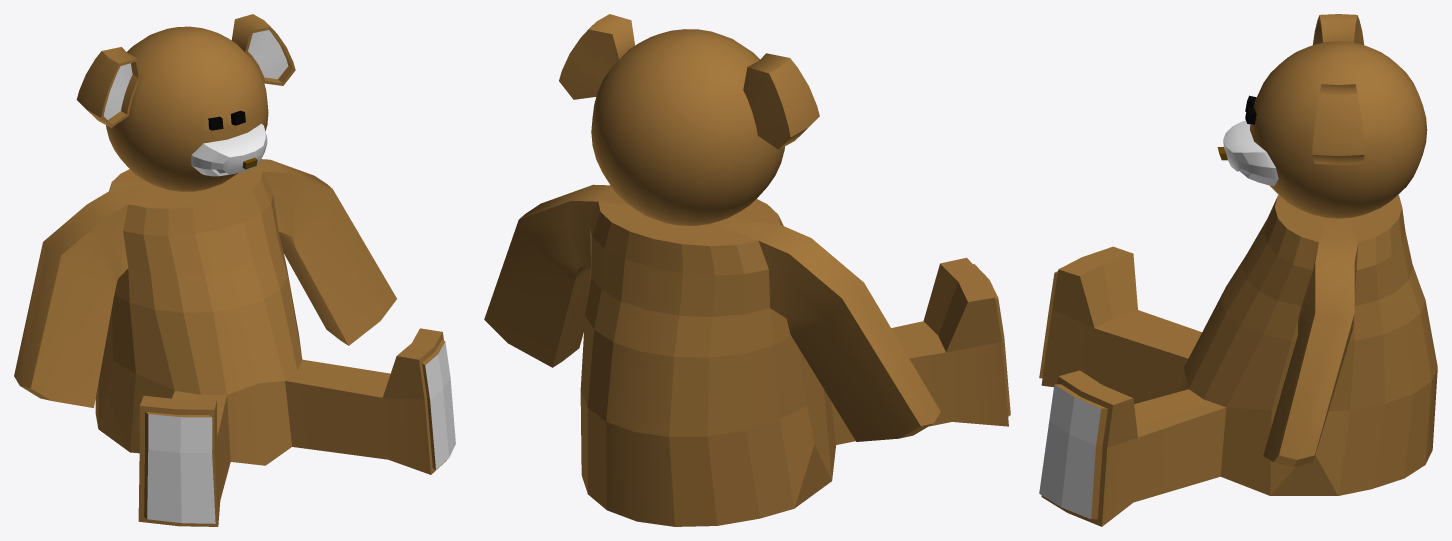
Rendered from TeddyBear.fbx.
The picture shows the model from 3 angles, left to right: view 1: azimuth 30°, elevation 25°; view 2: azimuth 150°, elevation 25°; view 3: azimuth 270°, elevation 25°; orthographic projection. The views are drawn at different scales.
Visible parts, largest first — view 1: TeddyBear; view 2: TeddyBear; view 3: TeddyBear.
Part boxes in pixels (box(x1,y1,x2,y2)): TeddyBear: box(14, 14, 455, 526); TeddyBear: box(484, 14, 1010, 526); TeddyBear: box(1039, 14, 1437, 526).
Size of the model in its own units: 7.6 by 7.3 by 6.58.
